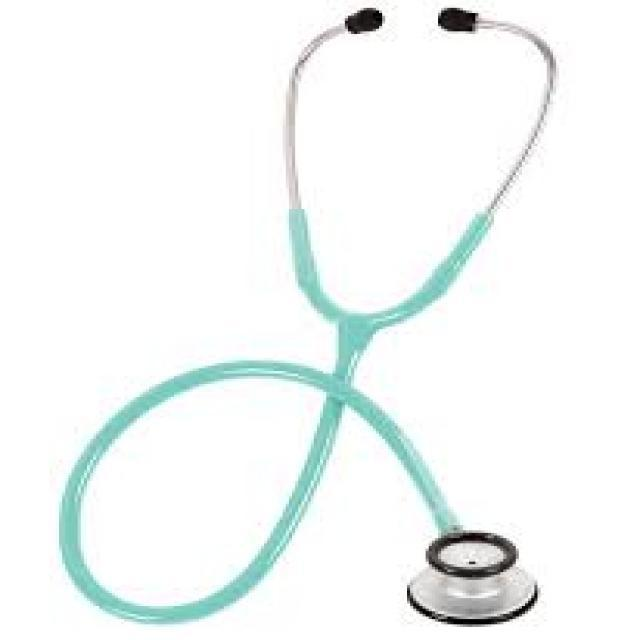stethoscope: (96, 8, 604, 610)
